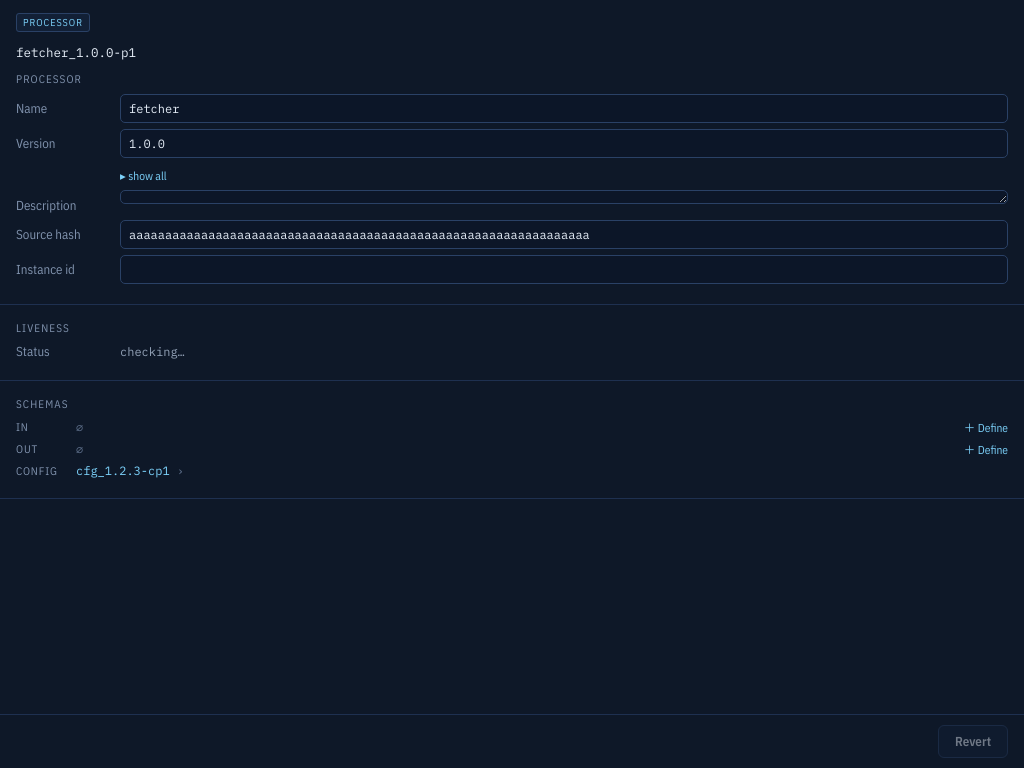
Test: Inspector editing (plan 8 §3.3: the design, never BaseApi) › the last Save's errors under their fields › finds a schema copy's error by the copy's id, reached from the processor's slot
Click the button "cfg_1.2.3-cp1".
click(123, 470)  # box x1=76 y1=463 x2=1000 y2=478
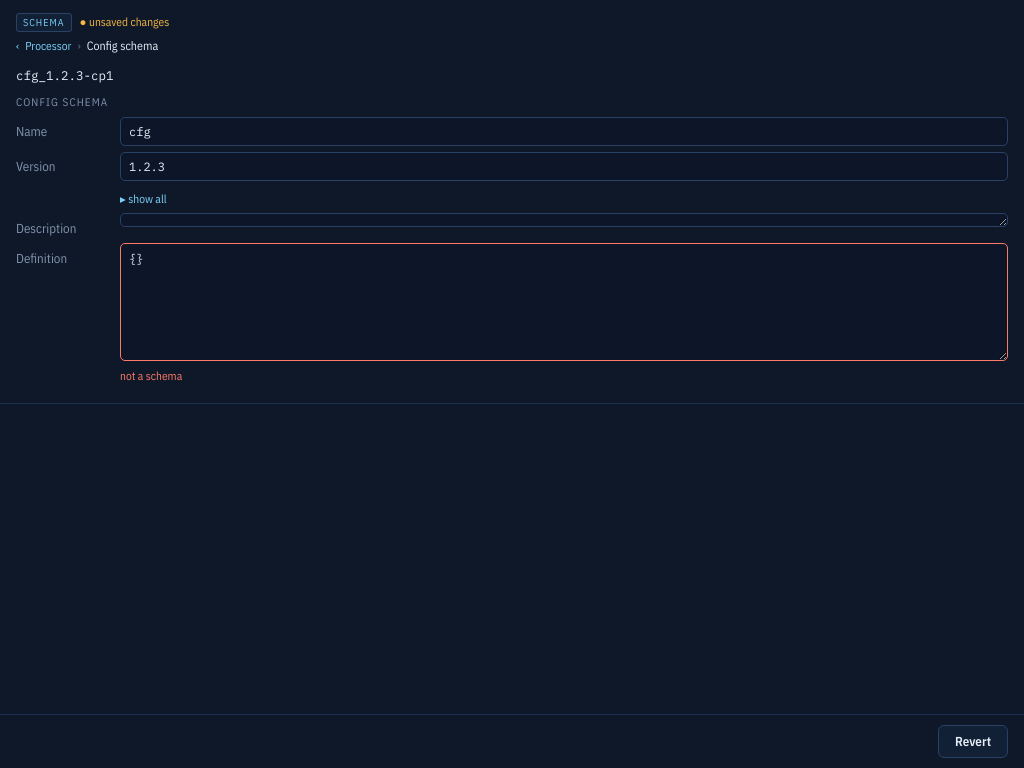
Result: the text "not a schema" is shown at x1=120 y1=368 x2=182 y2=383
Result: the element named "Unique name" reads "cfg_1.2.3-cp1" at x1=16 y1=67 x2=114 y2=83
